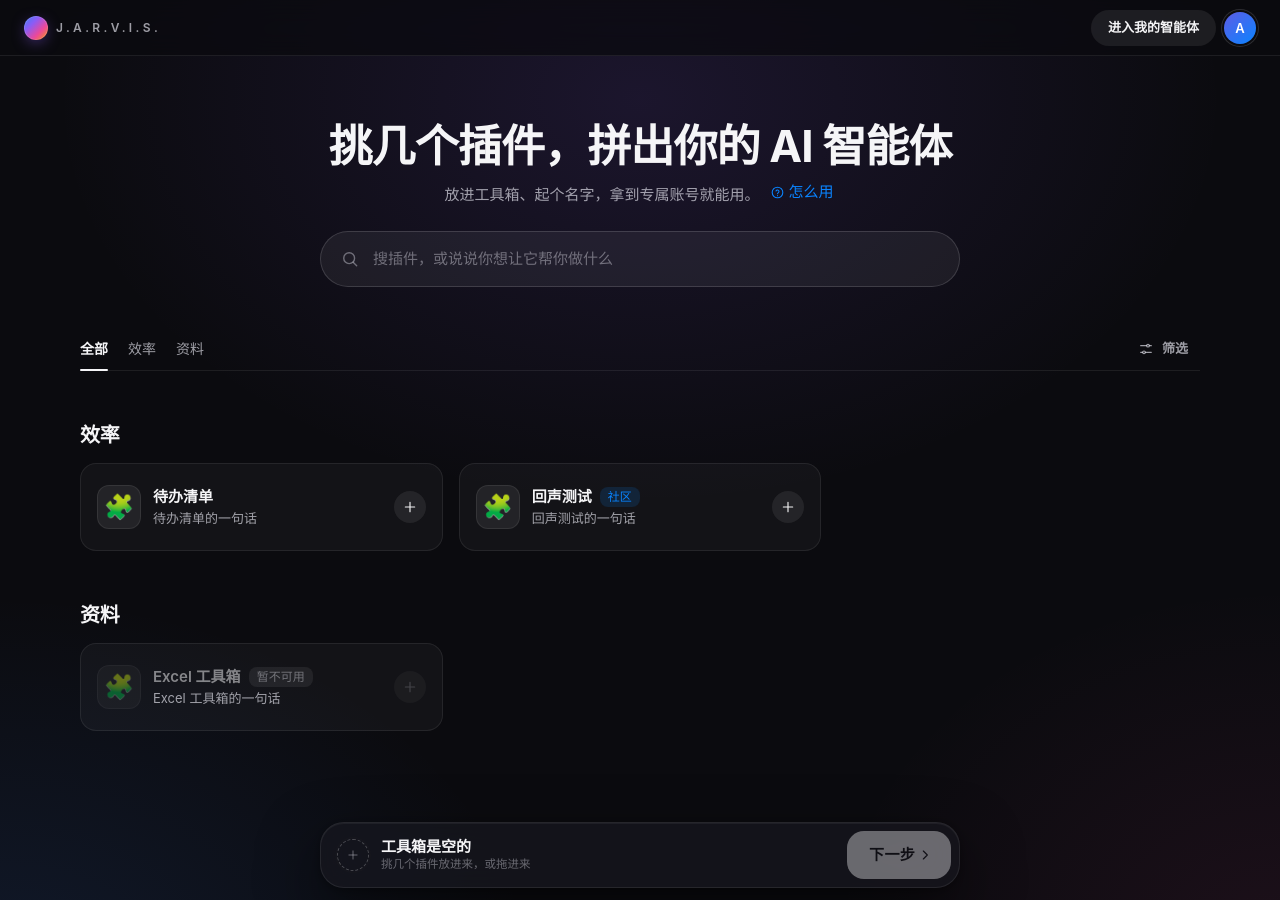
插件市场：来源、不可用与插件管理 › Owner：导入插件 → 信任预览（权限、依赖、来源 commit、隐私政策）→ 确认安装
This screenshot has width=1280, height=900.
Click the button named "账号：": {"x": 1240, "y": 28} [1224,12,1256,44]
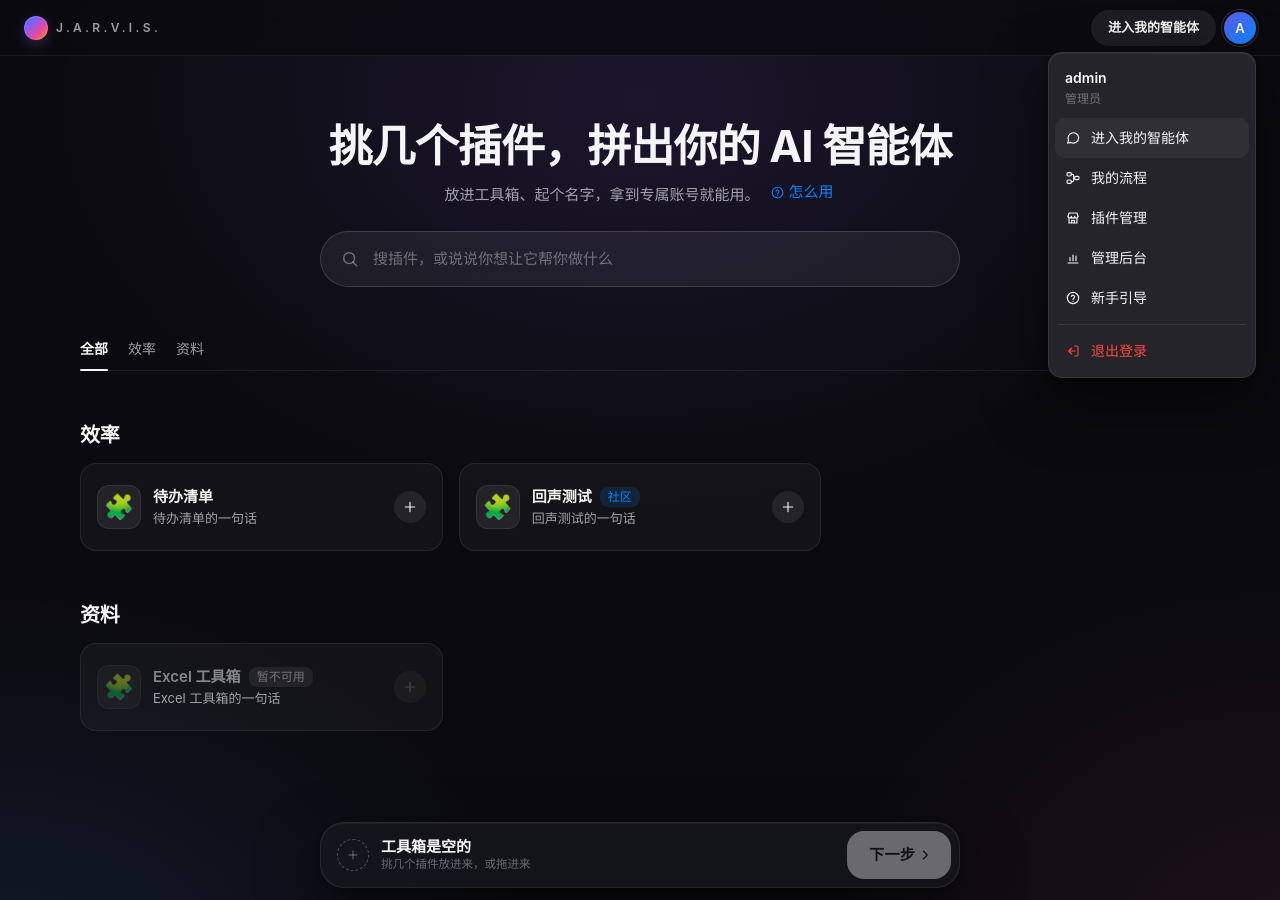
Click the menu item "插件管理": {"x": 1152, "y": 218} [1055,198,1249,238]
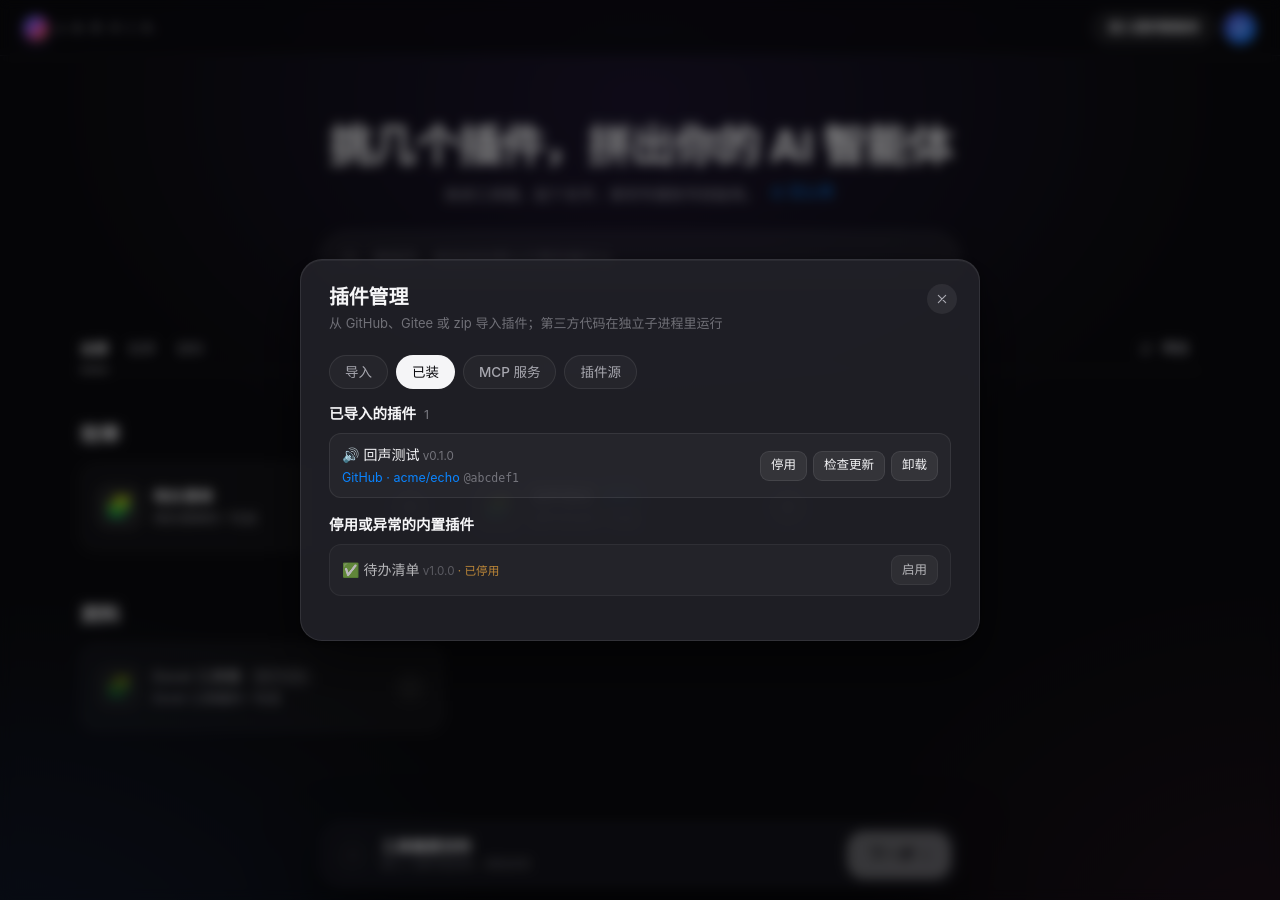
Click the tab "导入": {"x": 358, "y": 372} [329,355,388,389]
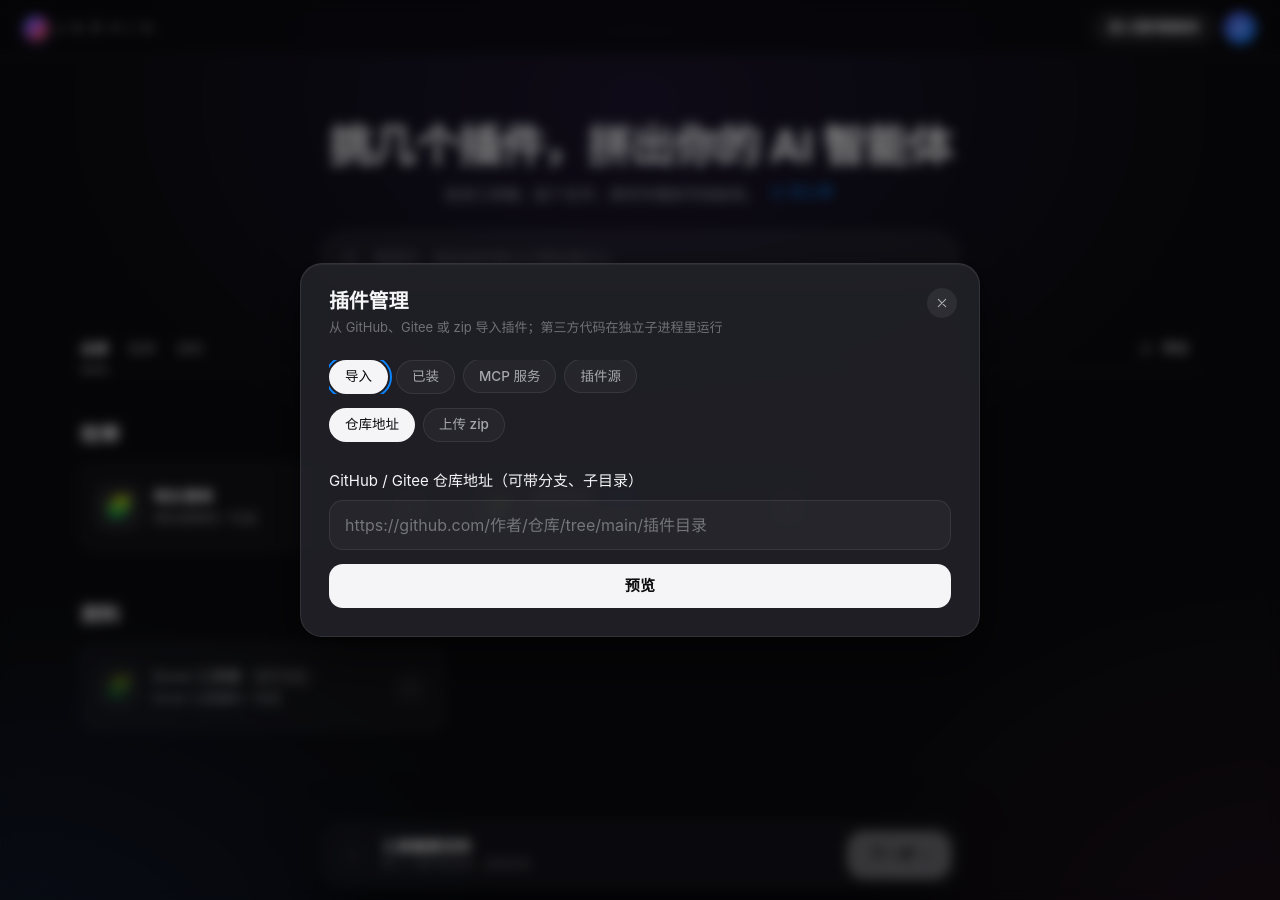
In the field: {"x": 640, "y": 525} [329,500,951,550], type "https://github.com/acme/skills/tree/main/polite"
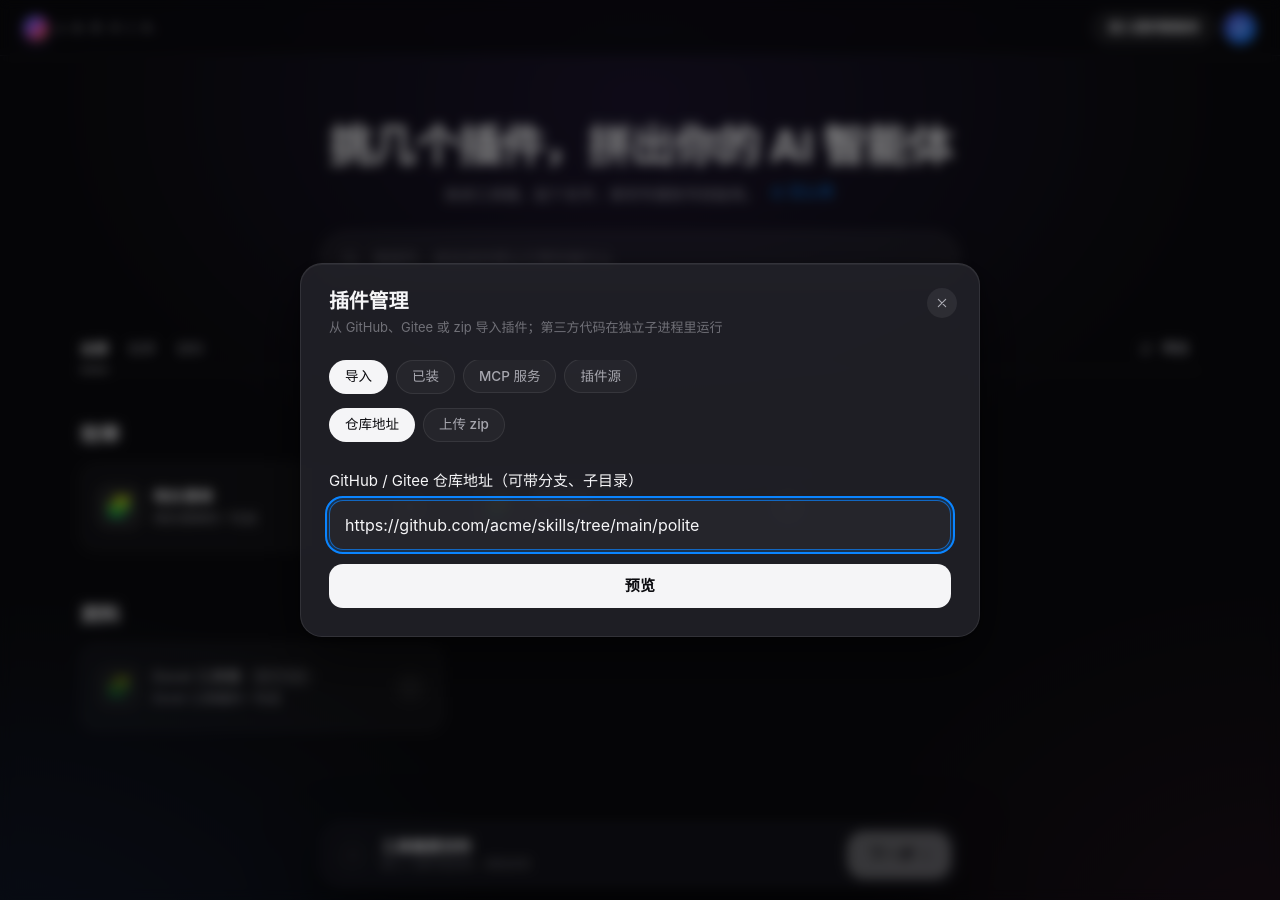
Click the button "预览": {"x": 640, "y": 586} [329,564,951,608]
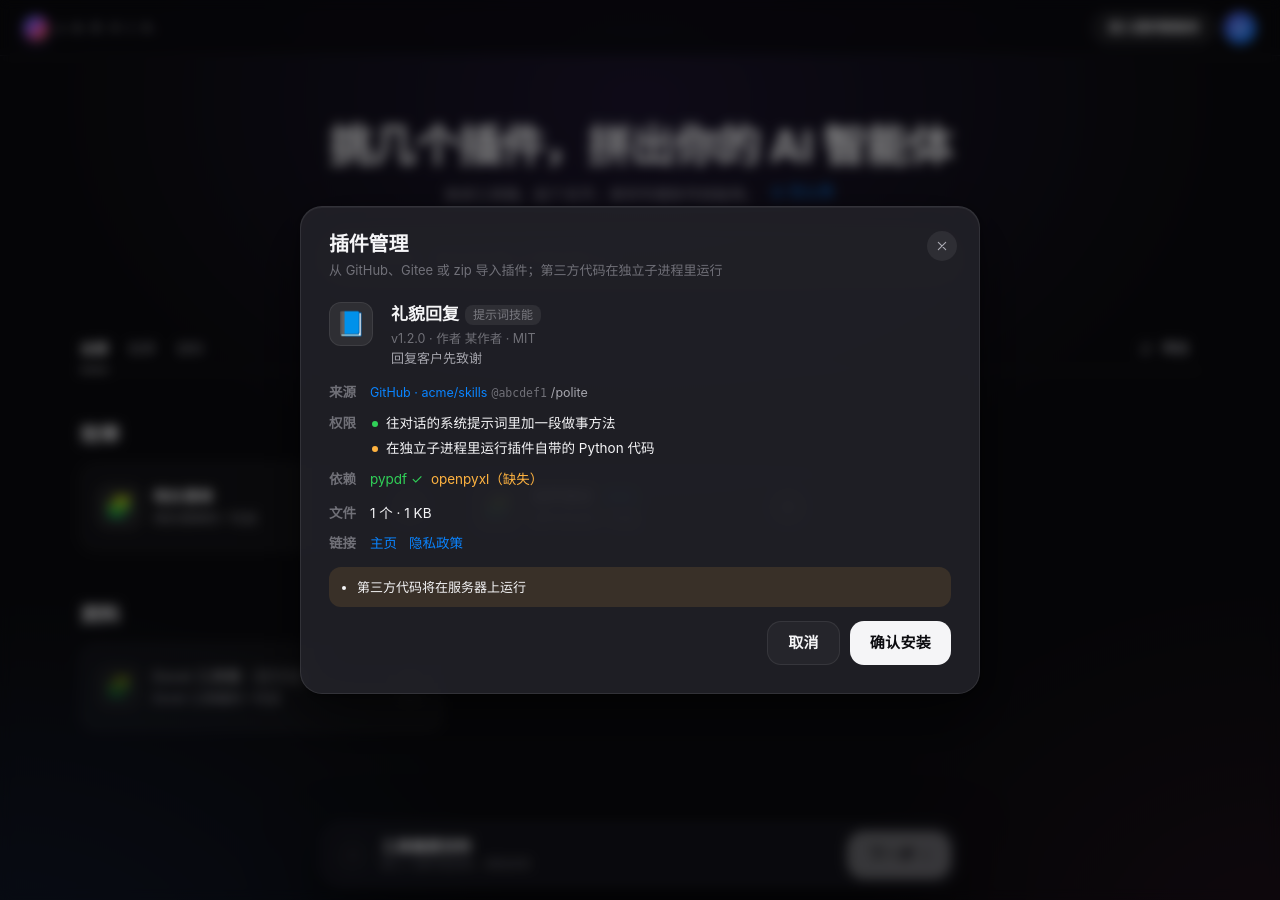
Now the element named "安装预览：礼貌回复" shows "v1.2.0", box [391,330,426,346]
Now the element named "安装预览：礼貌回复" shows "作者 某作者", box [426,330,502,346]
Now the element named "安装预览：礼貌回复" shows "MIT", box [502,330,536,346]
Click the button "确认安装": {"x": 900, "y": 643} [850,621,951,665]
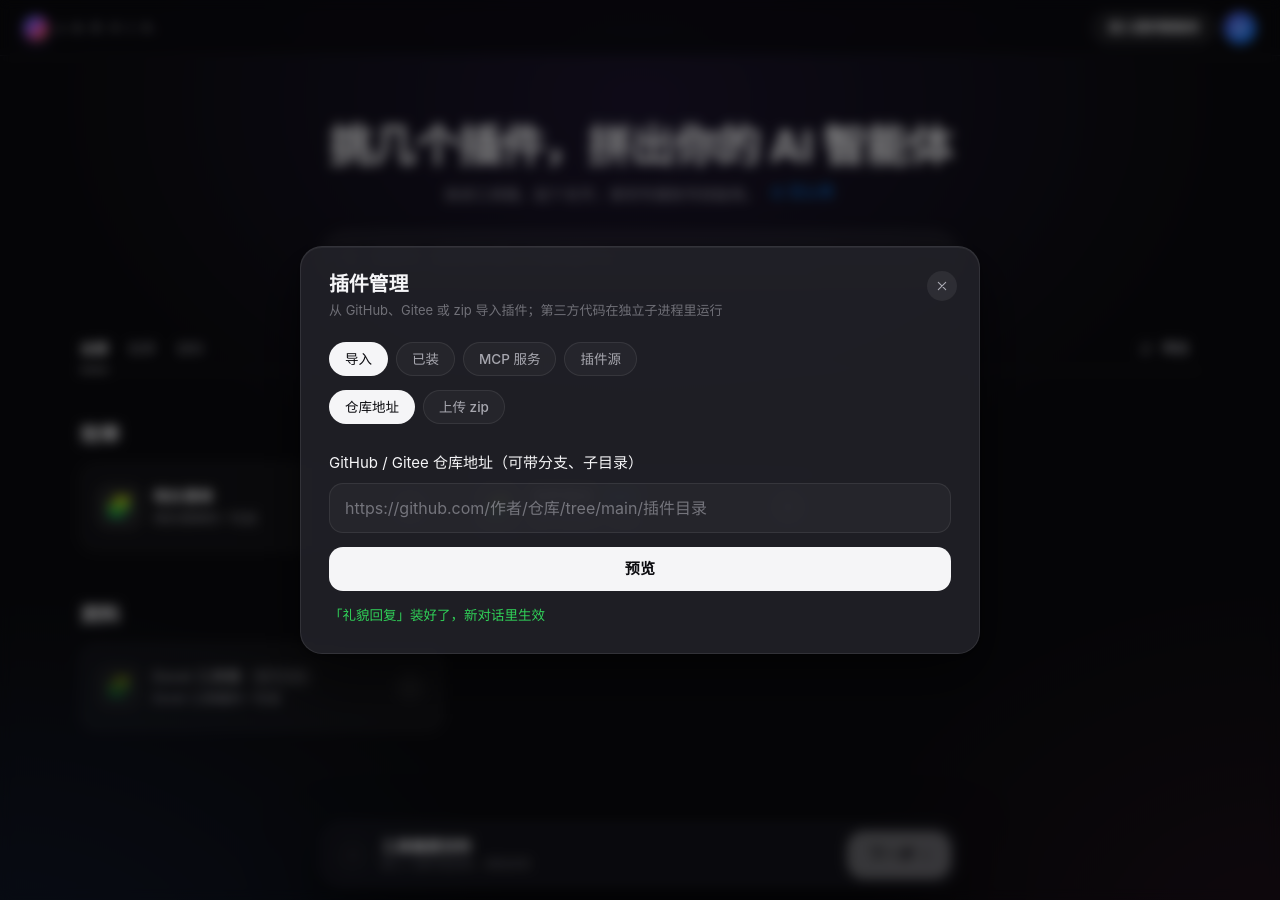
Now the text "「礼貌回复」装好了，新对话里生效" is shown, box [329,607,545,623]
